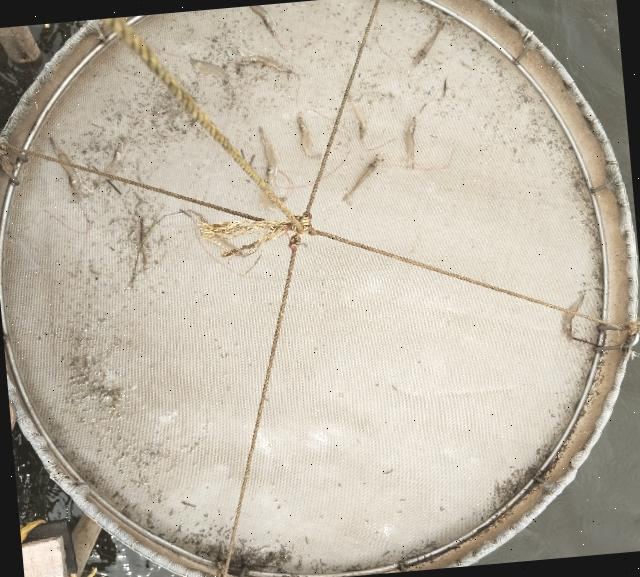shrimp: (342, 151, 384, 204), (49, 135, 79, 200), (411, 18, 444, 67), (95, 137, 123, 187), (562, 292, 585, 341), (259, 125, 277, 186), (238, 54, 292, 72), (348, 92, 367, 143), (249, 4, 277, 37), (189, 57, 228, 78), (297, 116, 316, 157), (404, 111, 416, 168)
